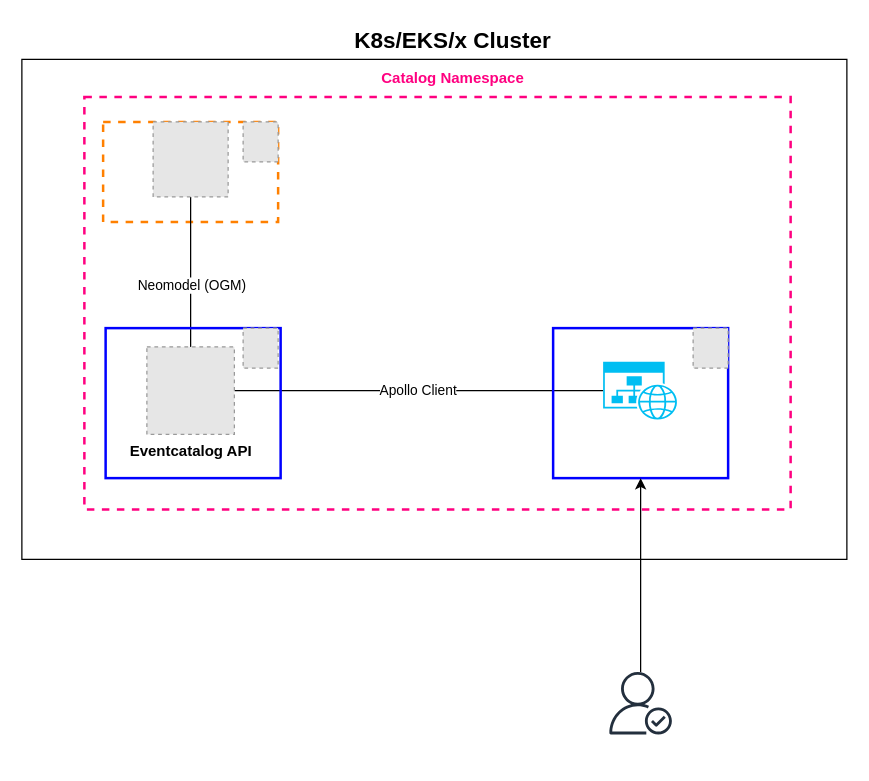
Image size: 869x781. Some labels were removed from this diagram. Grey dashed boxes stand in for pictures. The box of each missing label's shape, as (x1, y1, x2, y2) in pixels:
Event Catalog UI: (602, 361, 678, 419)
Users: (608, 671, 672, 734)
